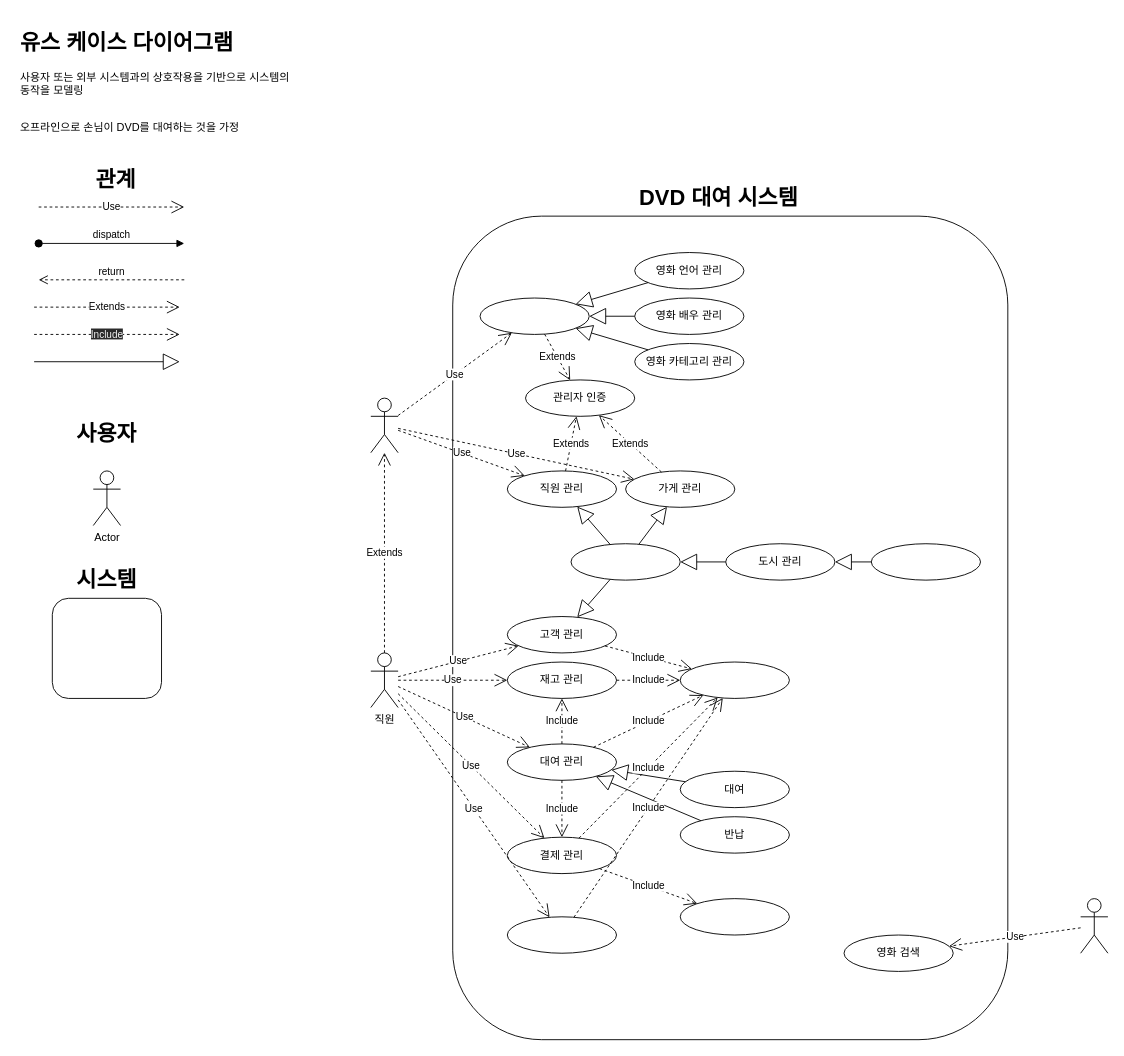
Image size: 1124x1056. Some labels were removed from this diagram. Here are the shapes that lost their labels. From the top down, the centre of each, then its label:
point 534,315: 영화 관리
point 384,425: 관리자
point 625,561: 주소 관리
point 925,561: 나라 관리
point 734,679: 직원 인증
point 561,934: 고객 가입
point 734,916: 회원 인증
point 1094,925: 고객
